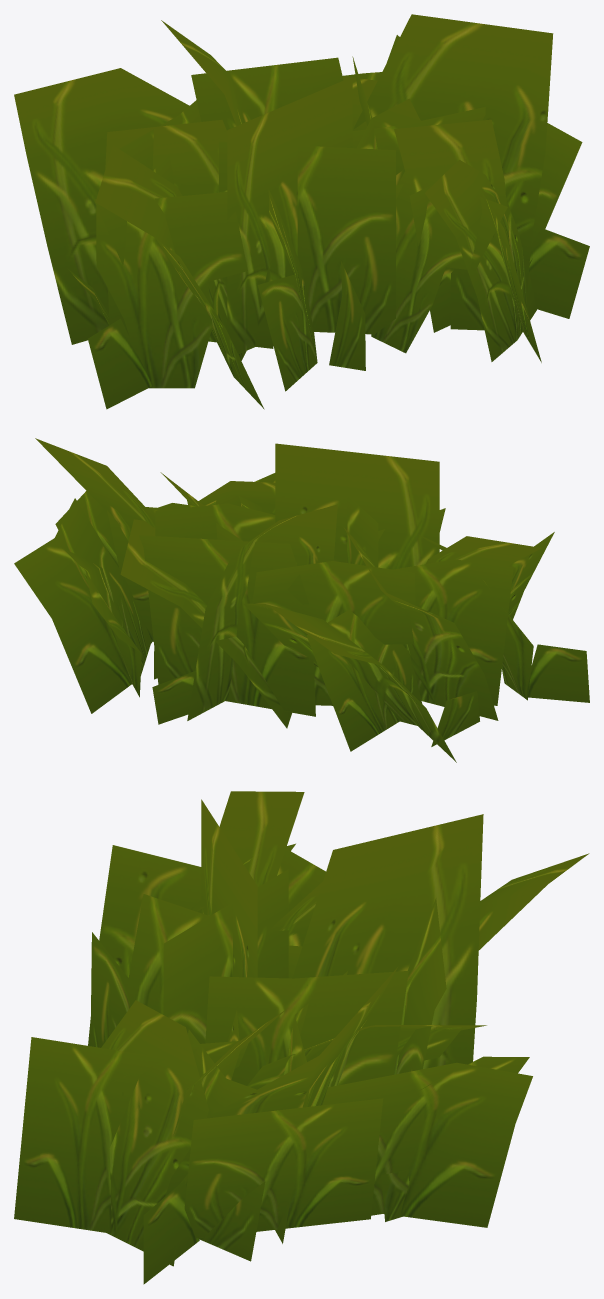
The model's file is daliang_field_v_i01a.fbx.
3 renders of one model, top to bottom at view 1: azimuth 30°, elevation 25°; view 2: azimuth 150°, elevation 25°; view 3: azimuth 270°, elevation 25°, orthographic. The views are drawn at different scales.
Visible parts, largest first — view 1: daliang_field_v_i01a; view 2: daliang_field_v_i01a; view 3: daliang_field_v_i01a.
Part boxes in pixels (box(x1,y1,x2,y2)): daliang_field_v_i01a: box(14, 14, 589, 409); daliang_field_v_i01a: box(14, 438, 589, 762); daliang_field_v_i01a: box(14, 791, 589, 1284).
Bounding box in the file's own units: 564 × 272 × 449.
